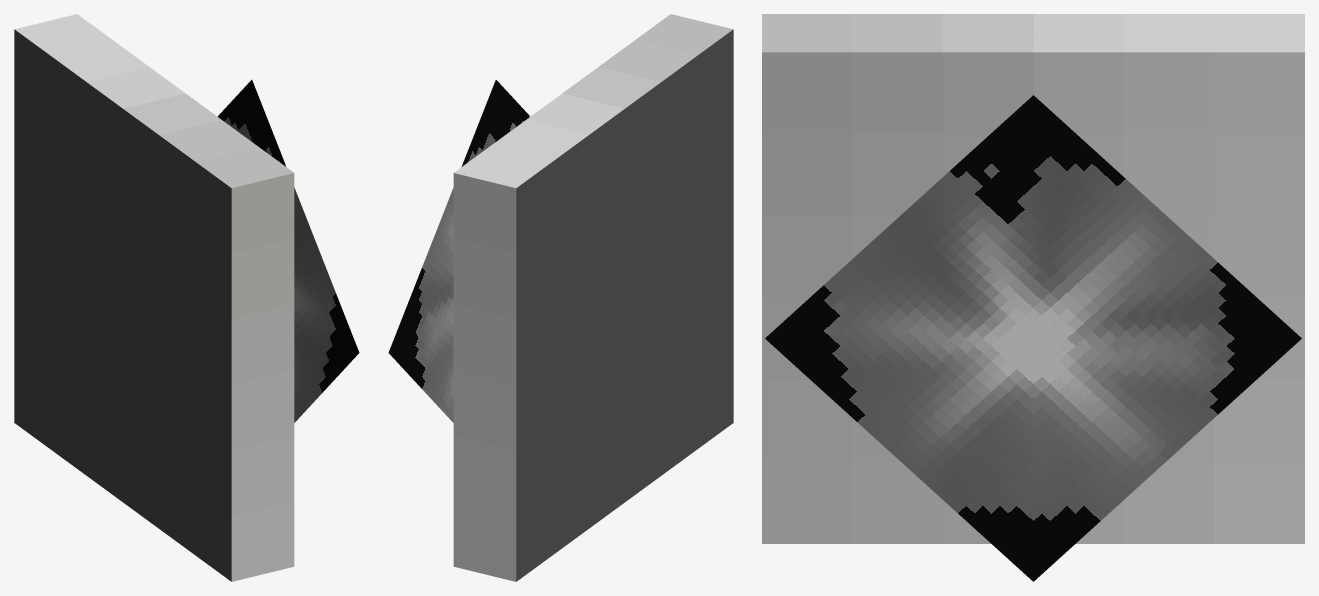
Rendered from ledswitch.obj.
3 renders of one model, left to right at view 1: azimuth 30°, elevation 25°; view 2: azimuth 150°, elevation 25°; view 3: azimuth 270°, elevation 25°, orthographic. The views are drawn at different scales.
Parts seen in each view (by area): view 1: main, halo; view 2: main, halo; view 3: main, halo.
Part boxes in pixels (x1,y1,x2,y2): main: (14, 14, 294, 581); halo: (217, 80, 359, 422); main: (453, 14, 733, 581); halo: (388, 80, 530, 422); main: (762, 14, 1304, 543); halo: (765, 95, 1301, 581).
Bounding box in the file's own units: 0.1285 × 0.375 × 0.375.
2 materials, 2 textured.
